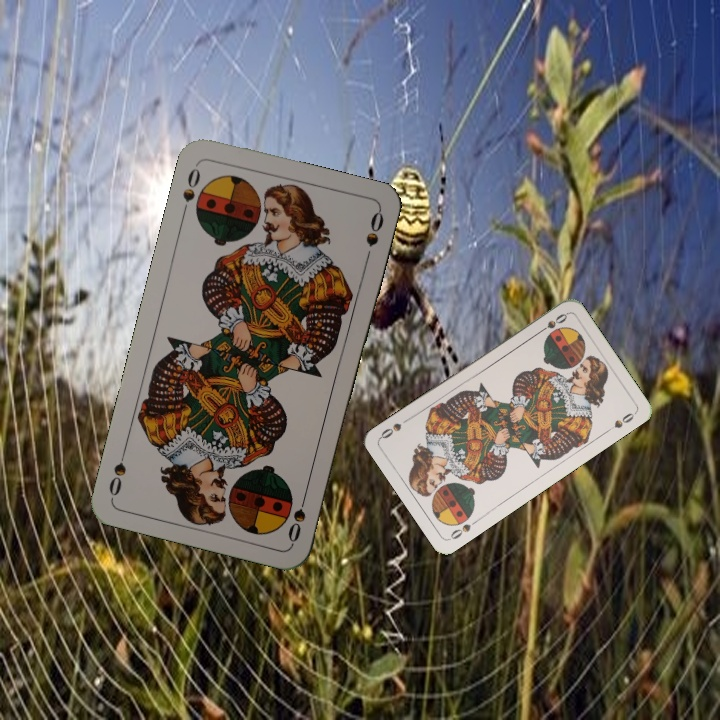SO: (284, 487, 310, 546), (178, 160, 203, 218), (445, 515, 482, 543), (534, 309, 570, 337)
